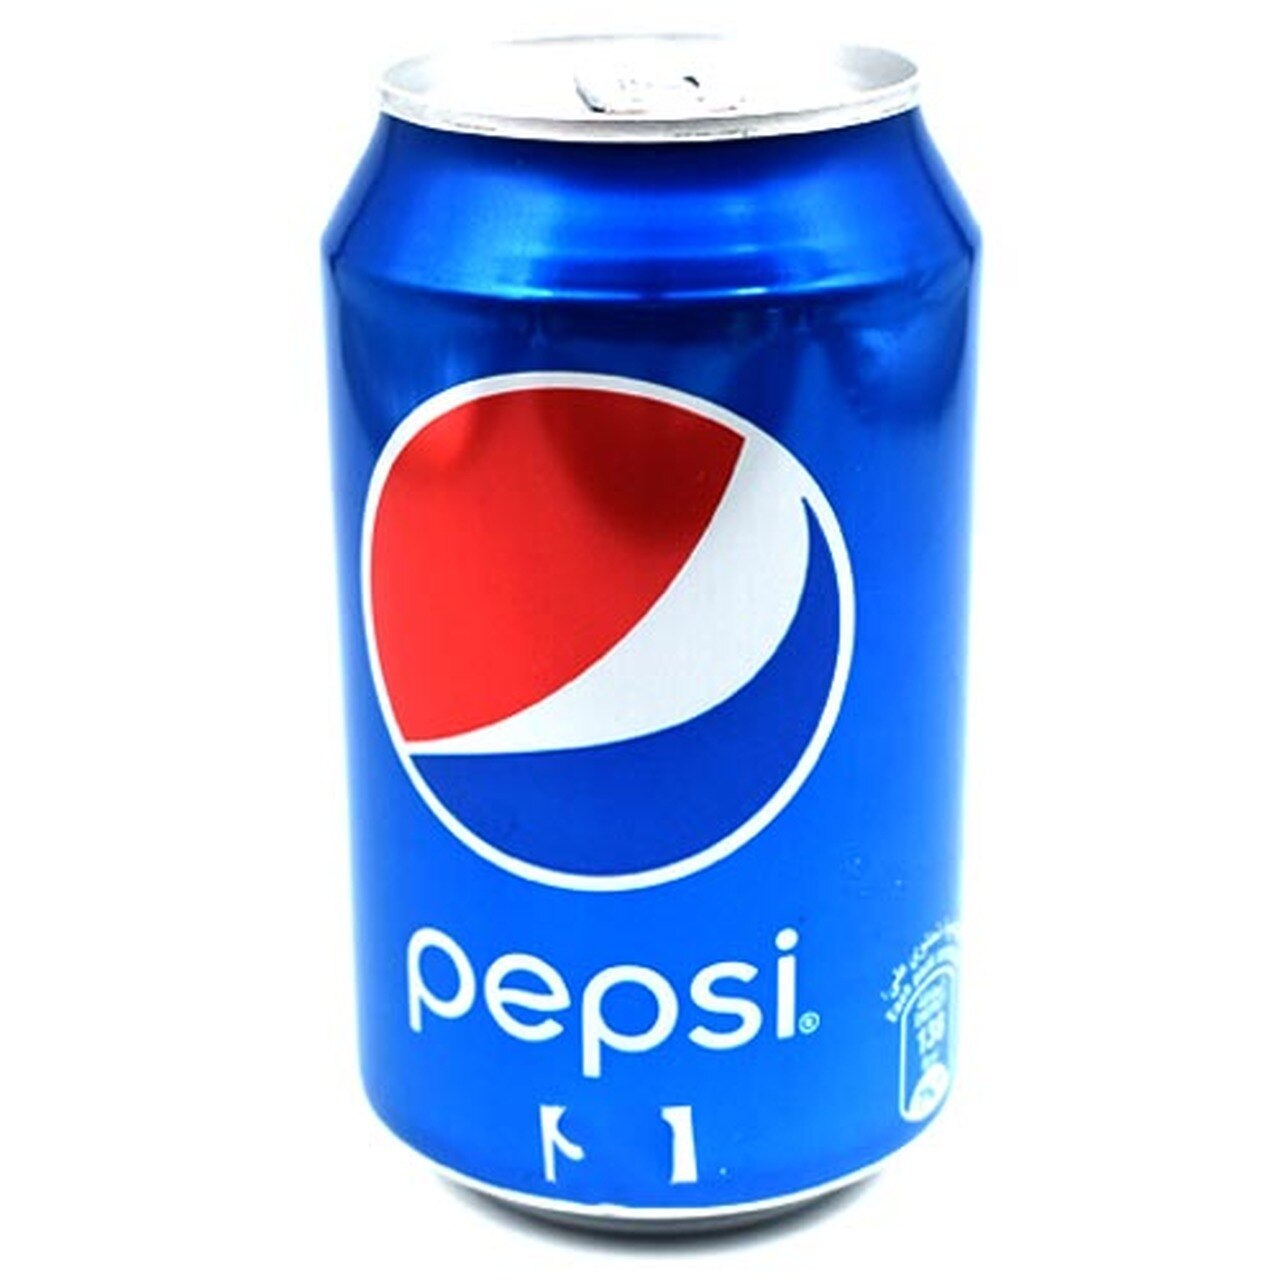pepsi_can: (315, 30, 982, 1231)
